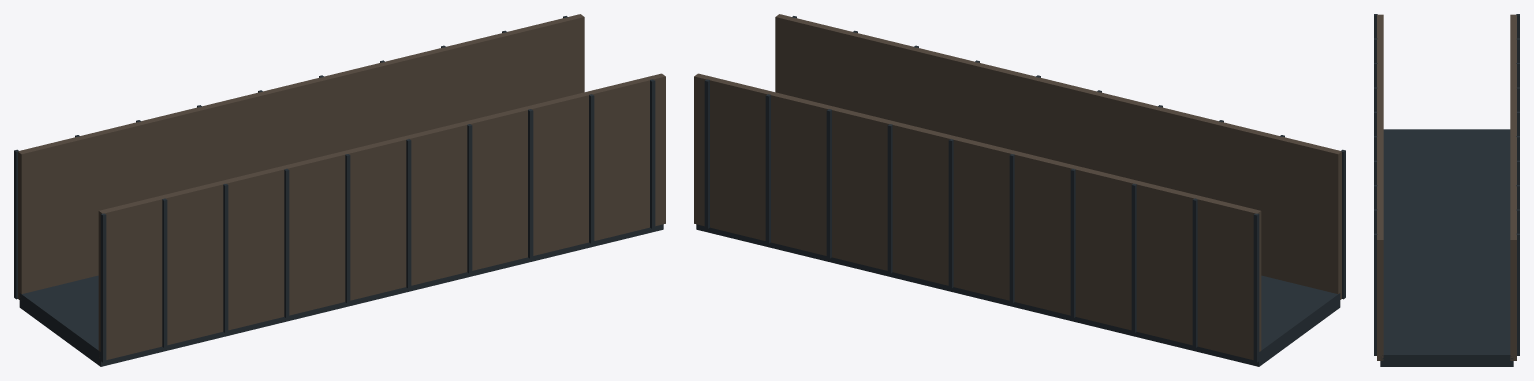
File: open-container-3.glb
The picture shows the model from 3 angles, left to right: view 1: azimuth 30°, elevation 25°; view 2: azimuth 150°, elevation 25°; view 3: azimuth 270°, elevation 25°; orthographic projection. The views are drawn at different scales.
Parts seen in each view (by area): view 1: open-container/2/KR-230-3; view 2: open-container/2/KR-230-3; view 3: open-container/2/KR-230-3.
Part boxes in pixels (x1,y1,x2,y2): open-container/2/KR-230-3: (14,14,665,366); open-container/2/KR-230-3: (694,14,1345,366); open-container/2/KR-230-3: (1374,14,1519,366).
Size of the model in its own units: 12.03 by 3.15 by 3.28.
